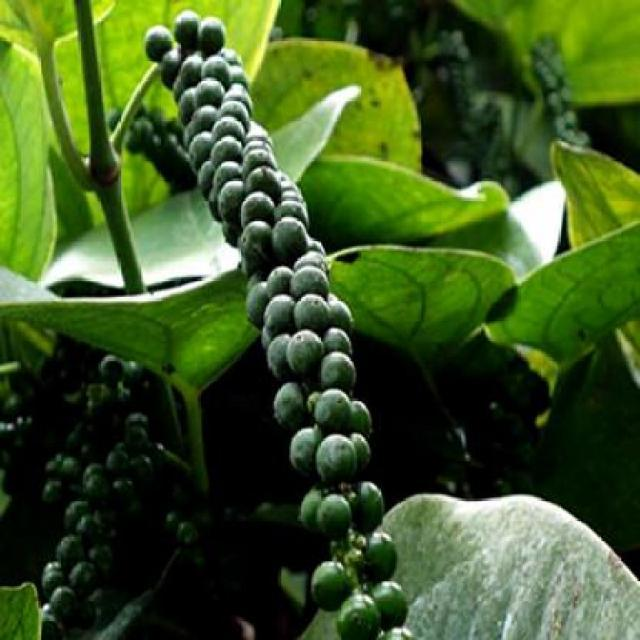UNRIPE: (145, 17, 403, 617), (17, 357, 161, 625)
